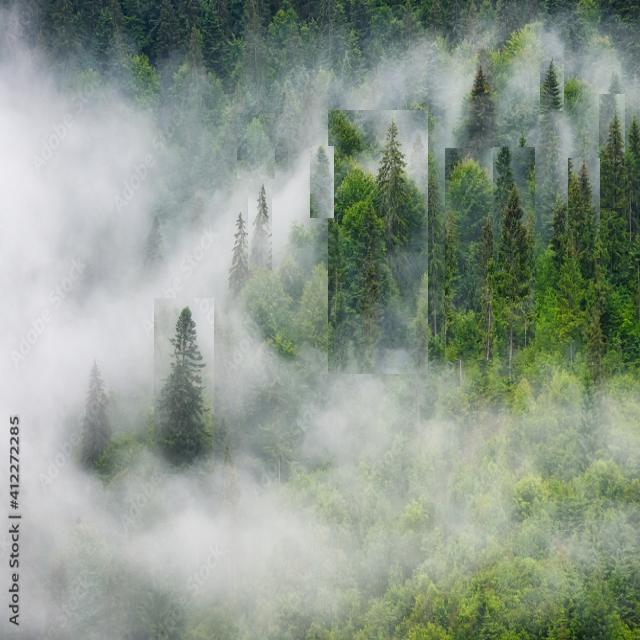tree: (328, 110, 428, 374), (445, 148, 503, 360), (154, 298, 214, 474), (493, 147, 535, 377), (299, 260, 349, 364), (458, 56, 502, 160), (80, 363, 116, 473), (200, 0, 240, 86), (568, 158, 600, 258), (265, 0, 299, 92), (559, 242, 581, 382), (599, 94, 625, 208), (373, 0, 411, 70), (237, 113, 275, 179), (248, 182, 272, 270), (228, 212, 256, 284), (339, 28, 369, 90), (310, 146, 334, 218), (540, 61, 564, 111), (548, 197, 572, 246)
